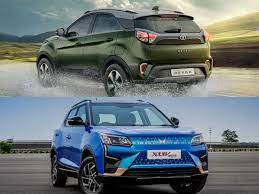XUV 400: (48, 98, 209, 194)
